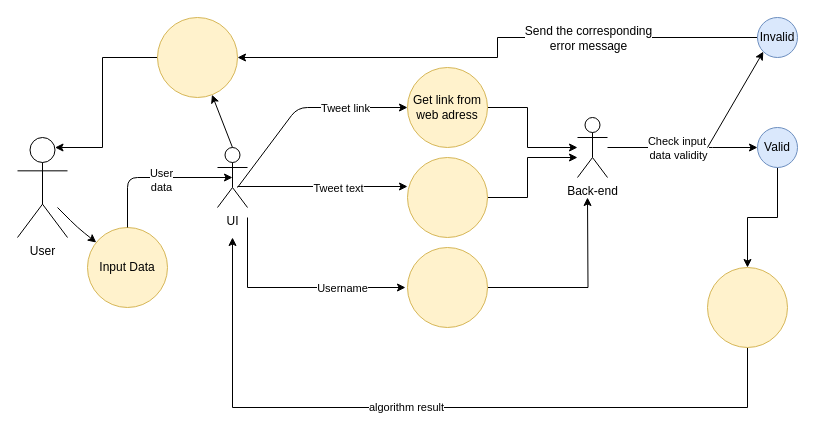
Some shapes in this 815 by 433 pixel diagram are drawn without their labels. Here are the shapes that lost their labels. From the top down, the centre of each, then its label:
point 197,57: Show Response
point 447,197: Get Text
point 447,287: Get last username Tweets
point 747,307: Feeling check
